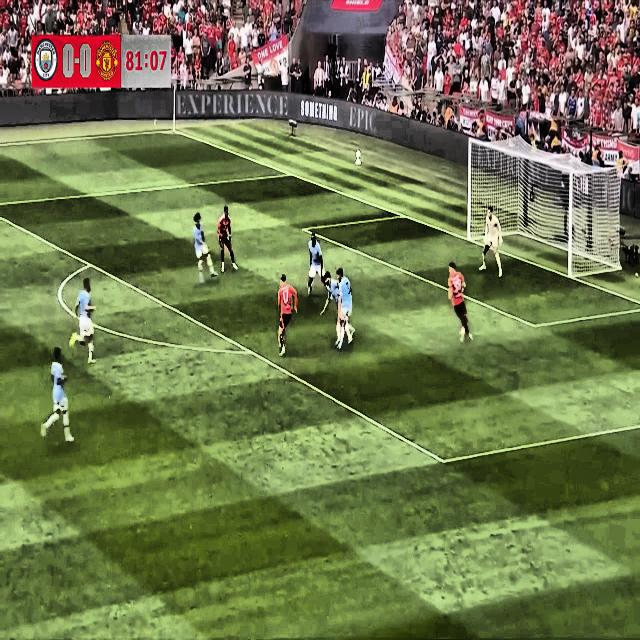goal_keeper: (478, 207, 512, 287)
players: (40, 342, 78, 448), (442, 253, 475, 349), (322, 264, 356, 350), (72, 274, 100, 368), (274, 270, 302, 364), (191, 208, 220, 290), (304, 222, 330, 302), (334, 263, 355, 355), (216, 201, 236, 277)
